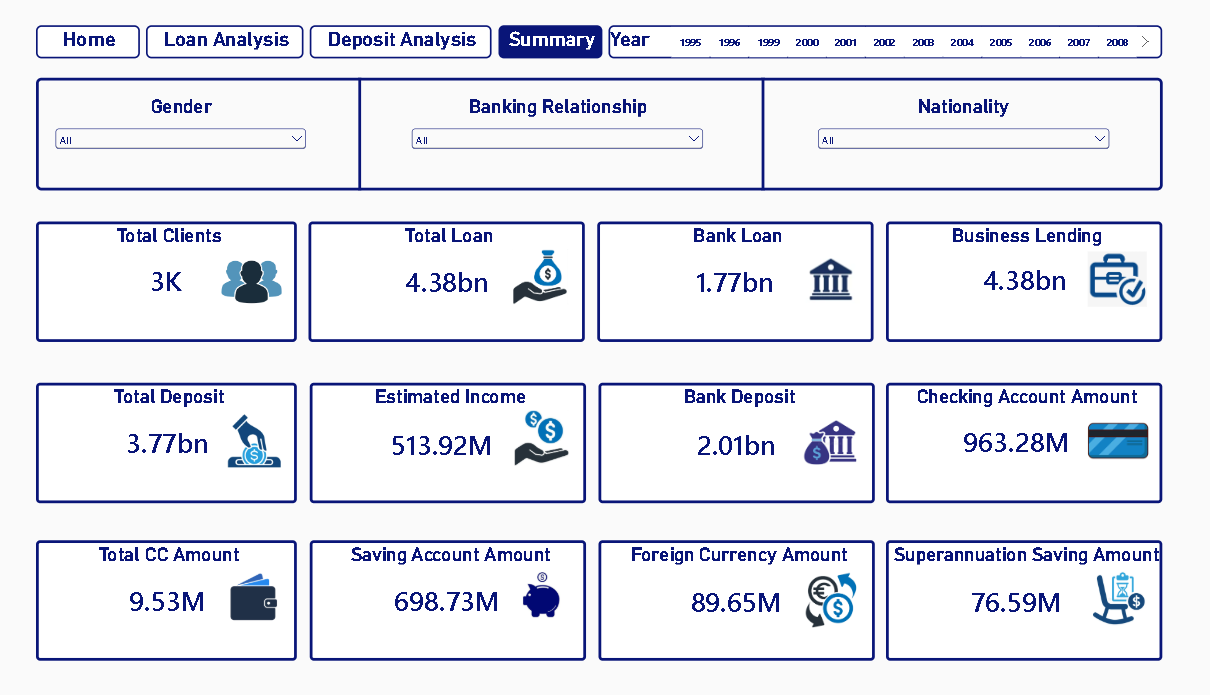

Layout of this report page (visuals, bound fields, positions):
{"tool":"powerbi","page":{"name":"Summary","canvas":[1920,1080],"ordinal":3},"visuals":[{"type":"textbox","title":"Total Clients","box":[130,343.3,377.8,174.1],"z":0},{"type":"cardVisual","fields":{"Data":["CountNonNull(banking customer.ï»¿Client ID)"]},"box":[230,395.2,177.8,68.5],"z":1000},{"type":"image","box":[393,387.8,101.9,79.6],"z":2000},{"type":"textbox","title":"Total Loan","box":[525.4,343.7,400,174.1],"z":3000},{"type":"cardVisual","fields":{"Data":["banking customer.Total Loan"]},"box":[637.4,397,177.8,68.5],"z":4000},{"type":"image","box":[815.2,384.1,92.6,79.6],"z":5000},{"type":"textbox","title":"Bank Loan","box":[943,343.3,400,174.1],"z":6000},{"type":"cardVisual","fields":{"Data":["Sum(banking customer.Bank Loans)"]},"box":[1054.1,397,177.8,68.5],"z":7000},{"type":"image","box":[1231.9,389.6,96.3,79.6],"z":8000},{"type":"textbox","title":"Business Lending","box":[1360.6,343.3,400,174.1],"z":9000},{"type":"cardVisual","fields":{"Data":["banking customer.Total Loan"]},"box":[1472.6,393.3,177.8,68.5],"z":10000},{"type":"image","box":[1650.4,387.8,90.7,79.6],"z":11000},{"type":"textbox","title":"Total Deposit","box":[131.1,577,377.8,174.1],"z":12000},{"type":"cardVisual","fields":{"Data":["banking customer.Total Deposit"]},"box":[231.1,628.9,177.8,68.5],"z":13000},{"type":"image","box":[394.1,621.5,101.9,79.6],"z":14000},{"type":"textbox","title":"Estimated Income","box":[526.5,577.4,400,174.1],"z":15000},{"type":"cardVisual","fields":{"Data":["Sum(banking customer.Estimated Income)"]},"box":[618.5,631.5,198.1,68.5],"z":16000},{"type":"image","box":[816.3,617.8,92.6,79.6],"z":17000},{"type":"textbox","title":"Bank Deposit","box":[944.1,577,400,174.1],"z":18000},{"type":"cardVisual","fields":{"Data":["Sum(banking customer.Bank Deposits)"]},"box":[1055.2,630.7,177.8,68.5],"z":19000},{"type":"image","box":[1233,623.3,96.3,79.6],"z":20000},{"type":"textbox","title":"Checking Account Amount","box":[1361.7,577,400,174.1],"z":21000},{"type":"cardVisual","fields":{"Data":["Sum(banking customer.Checking Accounts)"]},"box":[1448.2,627.8,203.7,68.5],"z":22000},{"type":"image","box":[1651.5,621.5,90.7,79.6],"z":23000},{"type":"textbox","title":"Total CC Amount","box":[131.1,805.2,377.8,174.1],"z":24000},{"type":"cardVisual","fields":{"Data":["Sum(banking customer.Credit Card Balance)"]},"box":[231.1,857,177.8,68.5],"z":25000},{"type":"image","box":[394.1,849.6,101.9,79.6],"z":26000},{"type":"textbox","title":"Saving Account Amount","box":[526.5,805.6,400,174.1],"z":27000},{"type":"cardVisual","fields":{"Data":["Sum(banking customer.Saving Accounts)"]},"box":[625.9,857.4,198.1,68.5],"z":28000},{"type":"image","box":[816.3,845.9,92.6,79.6],"z":29000},{"type":"textbox","title":"Foreign Currency Amount","box":[944.1,805.2,400,174.1],"z":30000},{"type":"cardVisual","fields":{"Data":["Sum(banking customer.Foreign Currency Account)"]},"box":[1055.2,858.9,177.8,68.5],"z":31000},{"type":"image","box":[1233,851.5,96.3,79.6],"z":32000},{"type":"textbox","title":"Superannuation Saving Amount","box":[1361.7,805.2,400,174.1],"z":33000},{"type":"cardVisual","fields":{"Data":["Sum(banking customer.Superannuation Savings)"]},"box":[1461.1,859.3,177.8,68.5],"z":34000},{"type":"image","box":[1651.5,849.6,90.7,79.6],"z":35000},{"type":"textbox","box":[129.6,135.2,1631.5,163],"z":36000},{"type":"slicer","fields":{"Values":["banking customer.Gender"]},"box":[153.7,203.7,372.2,51.9],"z":37000},{"type":"shape","box":[561.1,135.2,75.9,163],"z":38000},{"type":"shape","box":[1135.2,135.2,96.3,163],"z":39000},{"type":"textbox","title":"Gender","box":[259.3,161.1,163,42.6],"z":40000},{"type":"slicer","fields":{"Values":["banking customer.Banking Relationship"]},"box":[670.4,203.7,431.5,51.9],"z":41000},{"type":"textbox","title":"Banking Relationship","box":[724.1,161.1,324.1,42.6],"z":42000},{"type":"slicer","fields":{"Values":["banking customer.Nationality"]},"box":[1257.4,203.7,431.5,51.9],"z":43000},{"type":"textbox","title":"Nationality","box":[1390.7,161.1,163,42.6],"z":44000},{"type":"textbox","title":"Home","box":[129.6,59.3,150,48.1],"z":45000},{"type":"textbox","title":"Loan Analysis","box":[289.4,59.3,227.8,48.1],"z":46000},{"type":"textbox","title":"Deposit Analysis","box":[526.9,59.3,263,48.1],"z":47000},{"type":"textbox","title":"Summary","box":[799.5,59.3,150,48.1],"z":48000},{"type":"textbox","title":"Year","box":[959.3,59.3,801.9,48.1],"z":49000},{"type":"slicer","fields":{"Values":["banking customer.Year of Joining"]},"box":[1029.6,59.3,713,48.1],"z":50000},{"type":"actionButton","box":[131.5,63,148.1,40.7],"z":51000},{"type":"actionButton","box":[288.9,63,227.8,40.7],"z":52000},{"type":"actionButton","box":[527.8,63,263,40.7],"z":53000}]}

Visuals, with their boxes in screenshot pixels (x1, y1, x2, y2), scaled from the page's 1920x1080 canvas onto the 1210x695 screenshot:
"Total Clients" textbox: crop(82, 221, 320, 333)
cardVisual - CountNonNull(banking customer.ï»¿Client ID): crop(145, 254, 257, 298)
image: crop(248, 250, 312, 301)
"Total Loan" textbox: crop(331, 221, 583, 333)
cardVisual - banking customer.Total Loan: crop(402, 255, 514, 300)
image: crop(514, 247, 572, 298)
"Bank Loan" textbox: crop(594, 221, 846, 333)
cardVisual - Sum(banking customer.Bank Loans): crop(664, 255, 776, 300)
image: crop(776, 251, 837, 302)
"Business Lending" textbox: crop(857, 221, 1110, 333)
cardVisual - banking customer.Total Loan: crop(928, 253, 1040, 297)
image: crop(1040, 250, 1097, 301)
"Total Deposit" textbox: crop(83, 371, 321, 483)
cardVisual - banking customer.Total Deposit: crop(146, 405, 258, 449)
image: crop(248, 400, 313, 451)
"Estimated Income" textbox: crop(332, 372, 584, 484)
cardVisual - Sum(banking customer.Estimated Income): crop(390, 406, 515, 450)
image: crop(514, 398, 573, 449)
"Bank Deposit" textbox: crop(595, 371, 847, 483)
cardVisual - Sum(banking customer.Bank Deposits): crop(665, 406, 777, 450)
image: crop(777, 401, 838, 452)
"Checking Account Amount" textbox: crop(858, 371, 1110, 483)
cardVisual - Sum(banking customer.Checking Accounts): crop(913, 404, 1041, 448)
image: crop(1041, 400, 1098, 451)
"Total CC Amount" textbox: crop(83, 518, 321, 630)
cardVisual - Sum(banking customer.Credit Card Balance): crop(146, 551, 258, 596)
image: crop(248, 547, 313, 598)
"Saving Account Amount" textbox: crop(332, 518, 584, 630)
cardVisual - Sum(banking customer.Saving Accounts): crop(394, 552, 519, 596)
image: crop(514, 544, 573, 596)
"Foreign Currency Amount" textbox: crop(595, 518, 847, 630)
cardVisual - Sum(banking customer.Foreign Currency Account): crop(665, 553, 777, 597)
image: crop(777, 548, 838, 599)
"Superannuation Saving Amount" textbox: crop(858, 518, 1110, 630)
cardVisual - Sum(banking customer.Superannuation Savings): crop(921, 553, 1033, 597)
image: crop(1041, 547, 1098, 598)
textbox: crop(82, 87, 1110, 192)
slicer - banking customer.Gender: crop(97, 131, 331, 164)
shape: crop(354, 87, 401, 192)
shape: crop(715, 87, 776, 192)
"Gender" textbox: crop(163, 104, 266, 131)
slicer - banking customer.Banking Relationship: crop(422, 131, 694, 164)
"Banking Relationship" textbox: crop(456, 104, 661, 131)
slicer - banking customer.Nationality: crop(792, 131, 1064, 164)
"Nationality" textbox: crop(876, 104, 979, 131)
"Home" textbox: crop(82, 38, 176, 69)
"Loan Analysis" textbox: crop(182, 38, 326, 69)
"Deposit Analysis" textbox: crop(332, 38, 498, 69)
"Summary" textbox: crop(504, 38, 598, 69)
"Year" textbox: crop(605, 38, 1110, 69)
slicer - banking customer.Year of Joining: crop(649, 38, 1098, 69)
actionButton: crop(83, 41, 176, 67)
actionButton: crop(182, 41, 326, 67)
actionButton: crop(333, 41, 498, 67)
